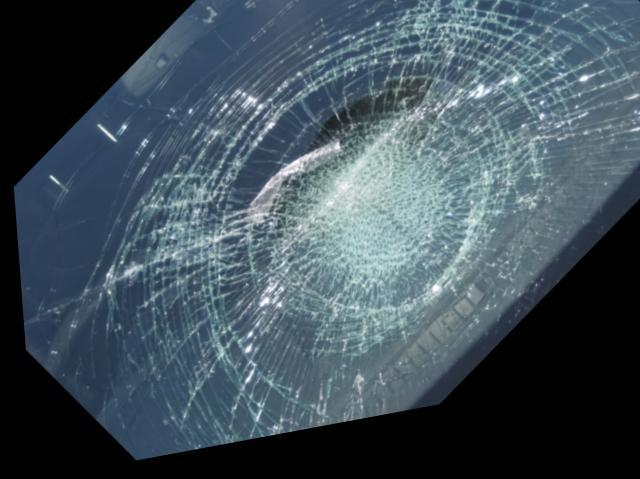glass shatter: (11, 0, 640, 464)
